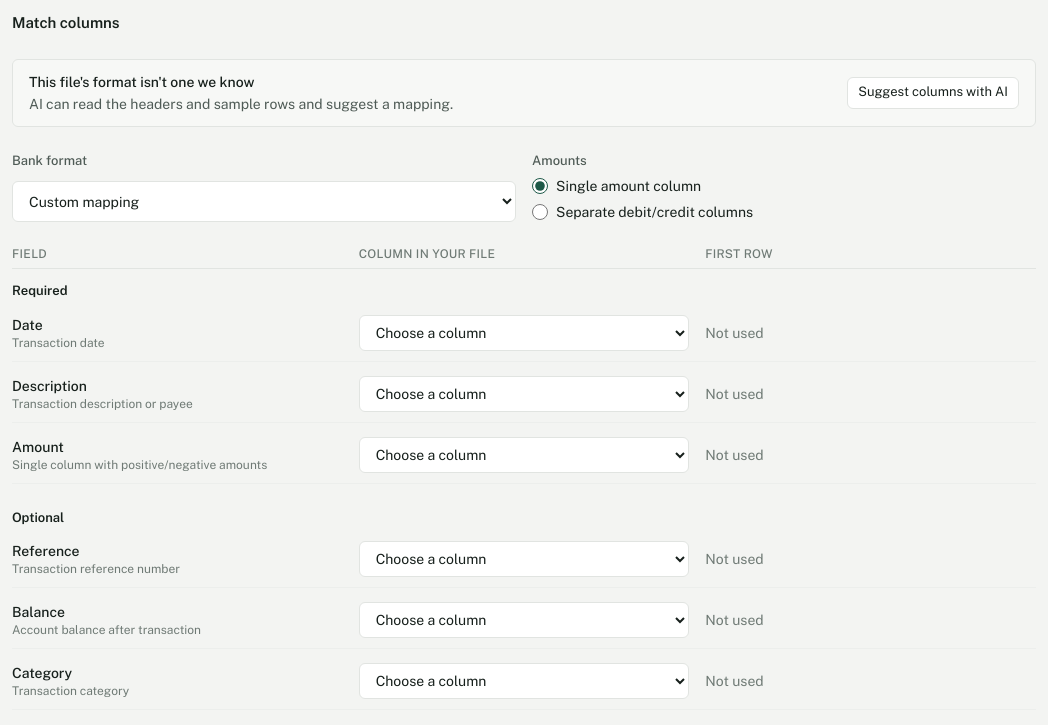
Test case: MappingStep › amount mode toggle › shows debit/credit fields when toggled
Click the radio button labelled "Separate debit/credit columns" at (540,212), box left=532, top=204, right=548, bottom=220
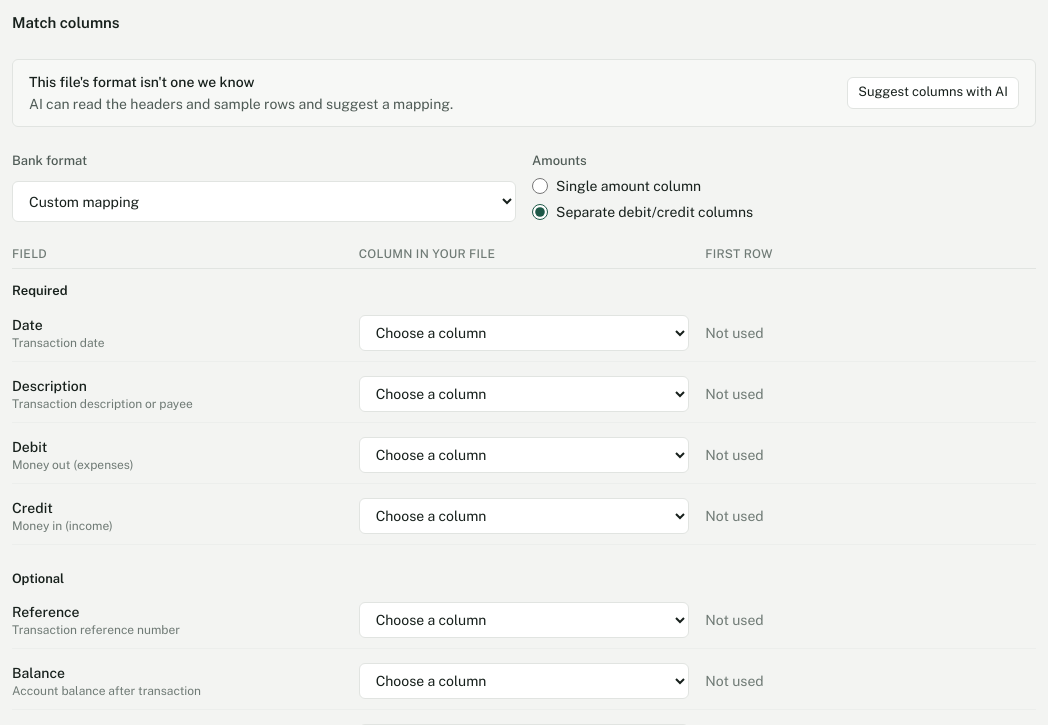
expect the text "Debit" is shown: met, box left=12, top=438, right=111, bottom=454
expect the text "Credit" is shown: met, box left=12, top=498, right=116, bottom=516
